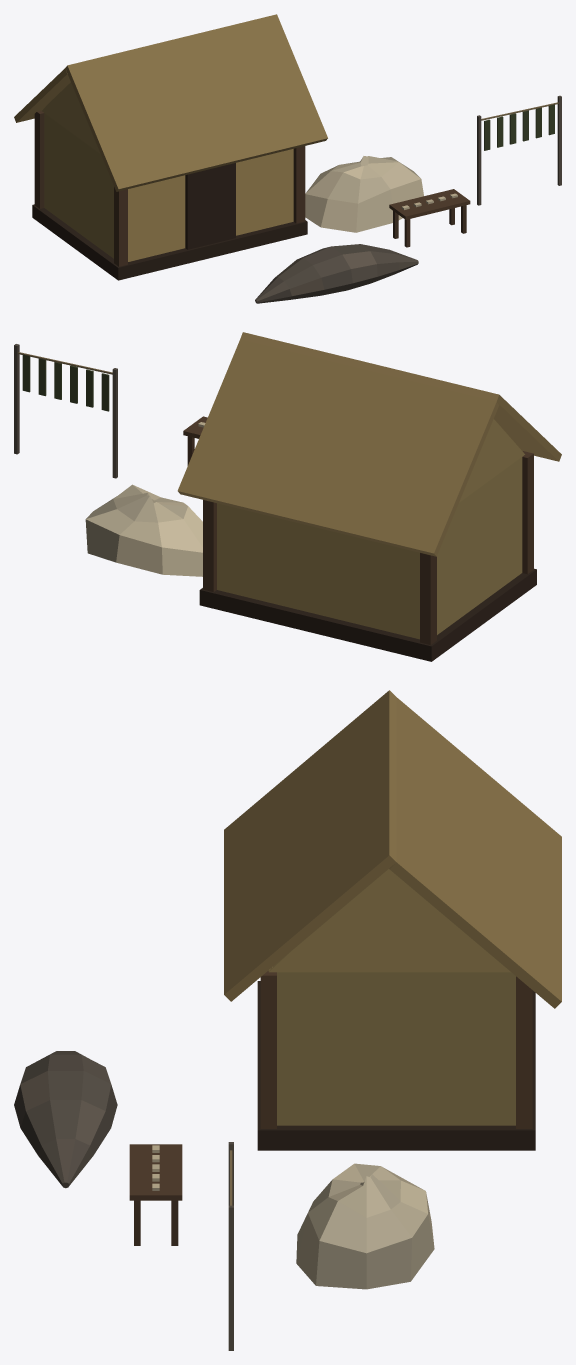
The model's file is walk_tidebound_pearls.glb.
3 views of the same model, one above another, from view 1: azimuth 30°, elevation 25°; view 2: azimuth 150°, elevation 25°; view 3: azimuth 270°, elevation 25° (orthographic). The views are drawn at different scales.
Visible parts, largest first — view 1: walk_tidebound_pearls, walk_tidebound_pearls_roof; view 2: walk_tidebound_pearls, walk_tidebound_pearls_roof; view 3: walk_tidebound_pearls, walk_tidebound_pearls_roof.
Part boxes in pixels (left/top/right/bottom): walk_tidebound_pearls: left=32, top=82, right=561, bottom=303; walk_tidebound_pearls_roof: left=14, top=14, right=327, bottom=191; walk_tidebound_pearls: left=14, top=344, right=536, bottom=661; walk_tidebound_pearls_roof: left=177, top=332, right=561, bottom=556; walk_tidebound_pearls: left=14, top=869, right=535, bottom=1350; walk_tidebound_pearls_roof: left=224, top=690, right=561, bottom=1008.
Size of what is drawn, in the model's own units: 11.04 by 4.98 by 7.29.
1 material, 1 textured.
